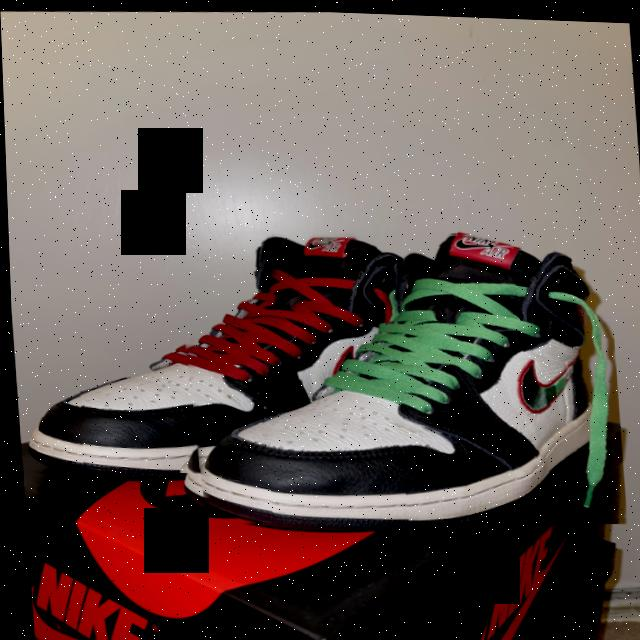shoe: (170, 215, 624, 534), (6, 216, 412, 485)
